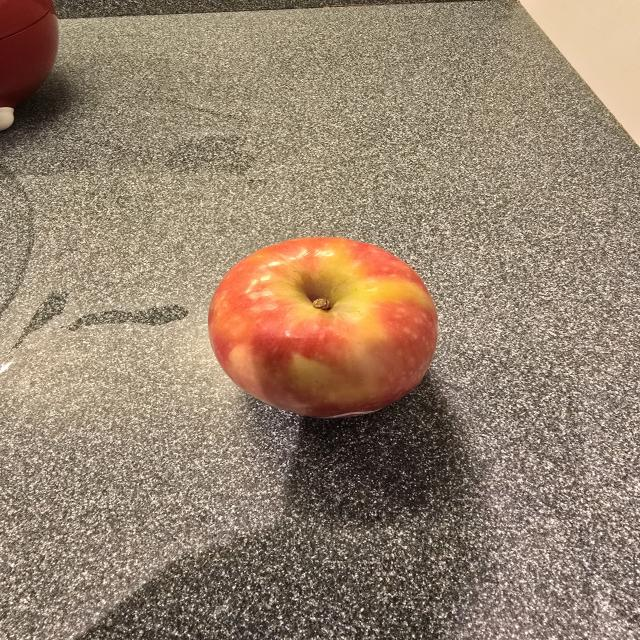Apple: (209, 238, 437, 417)
